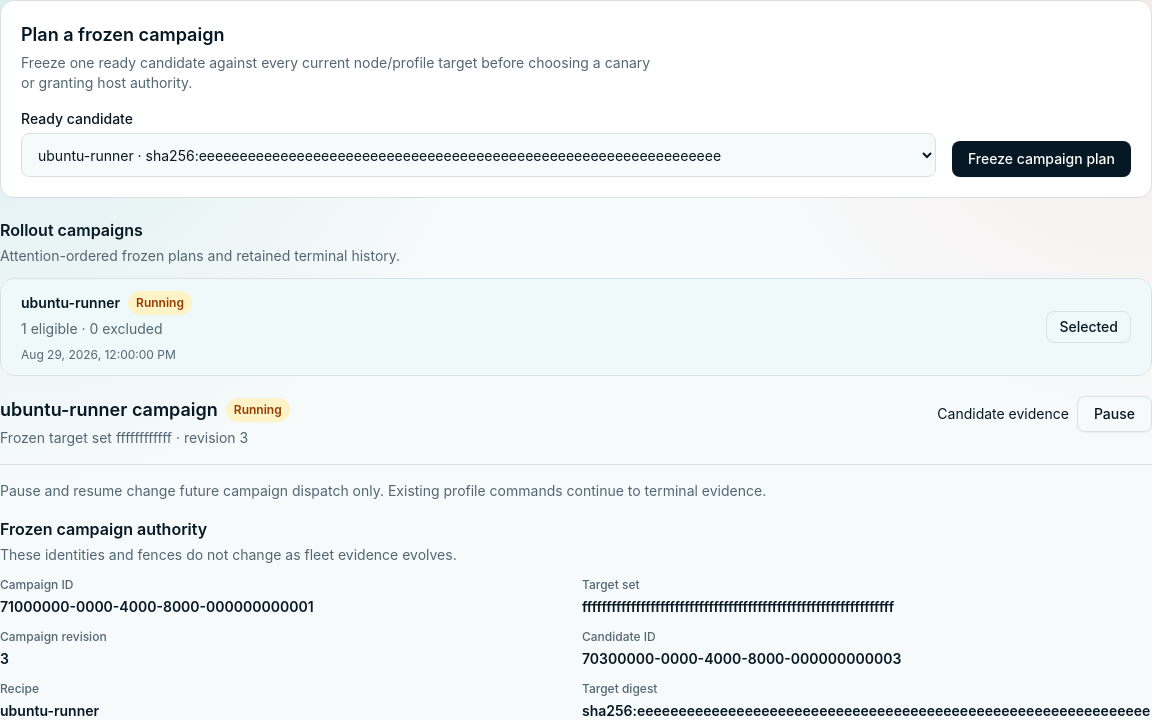
Test case: ImageCampaignsPage › confirms pause with a stable request key and continuation boundary
This screenshot has width=1152, height=720.
Click the button "Pause" at (1114, 414), box [1077,396,1151,432]
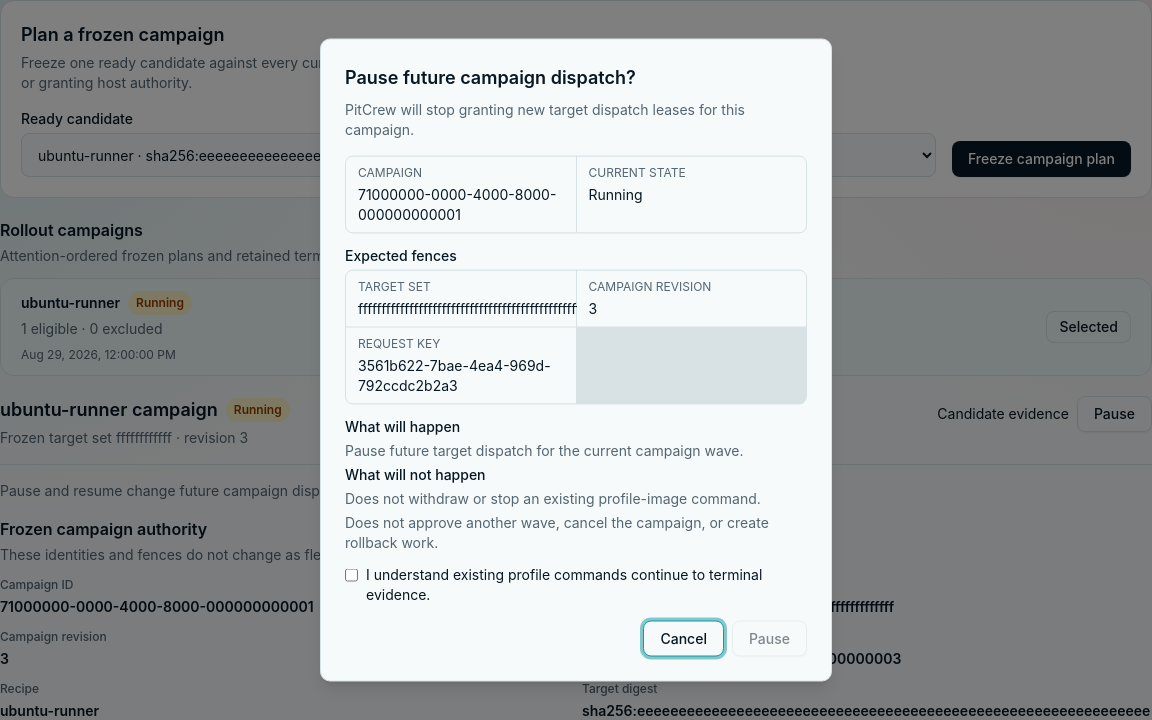
Result: the dialog "Pause future campaign dispatch?" shows "Does not withdraw or stop an existing profile-image command." at [345,490,761,506]
Result: the button "Pause" is disabled at [732,620,807,656]
Click the checkbox labelled "I understand existing profile commands continue to terminal evidence." at (352, 575), box [345,568,358,582]
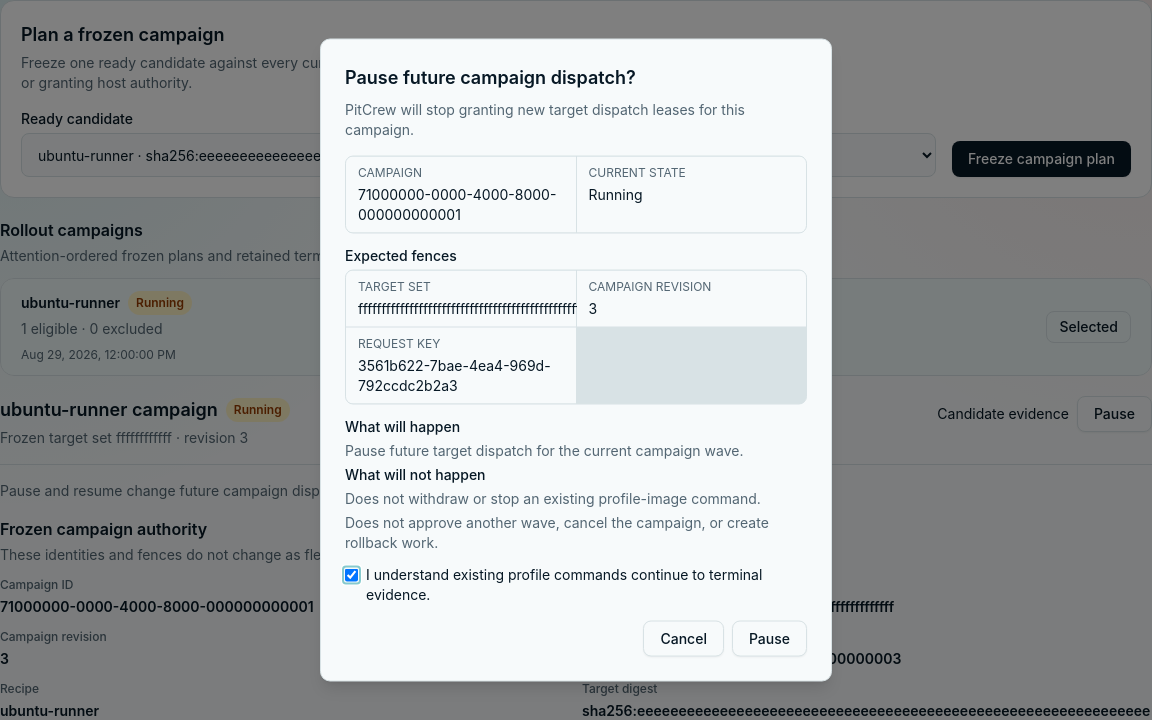
Click the button "Pause" at (769, 638), box [732,620,807,656]
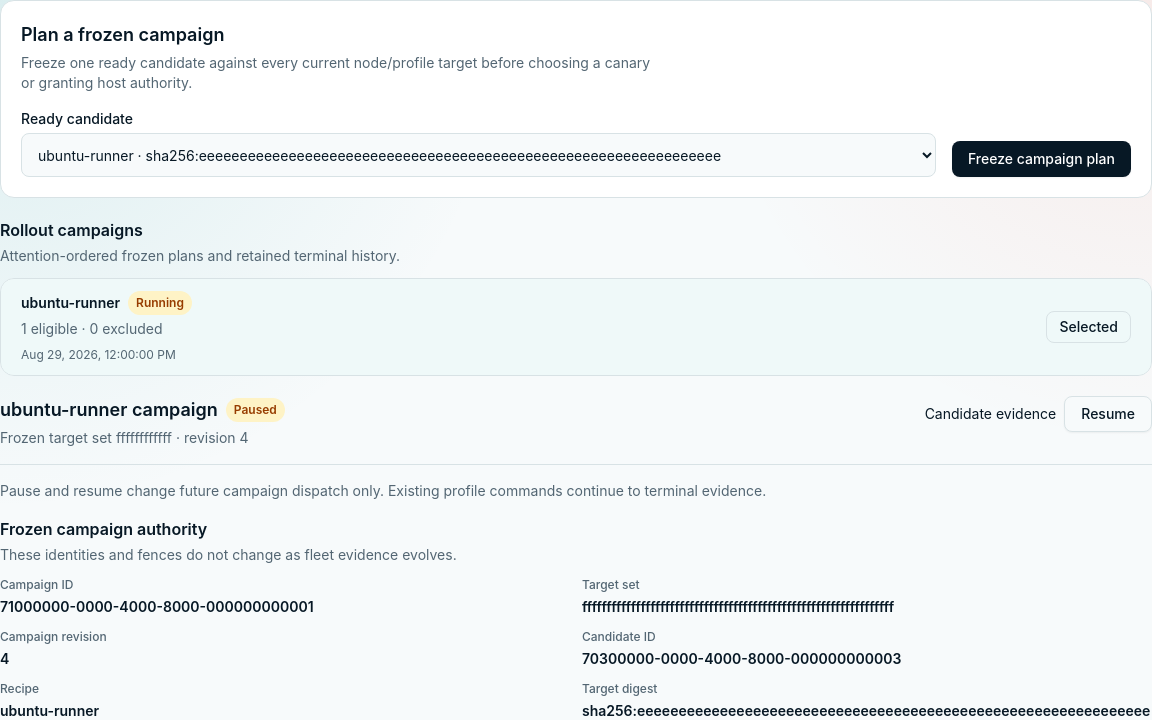
Result: the button "Resume" is shown at [1064,396,1151,432]
